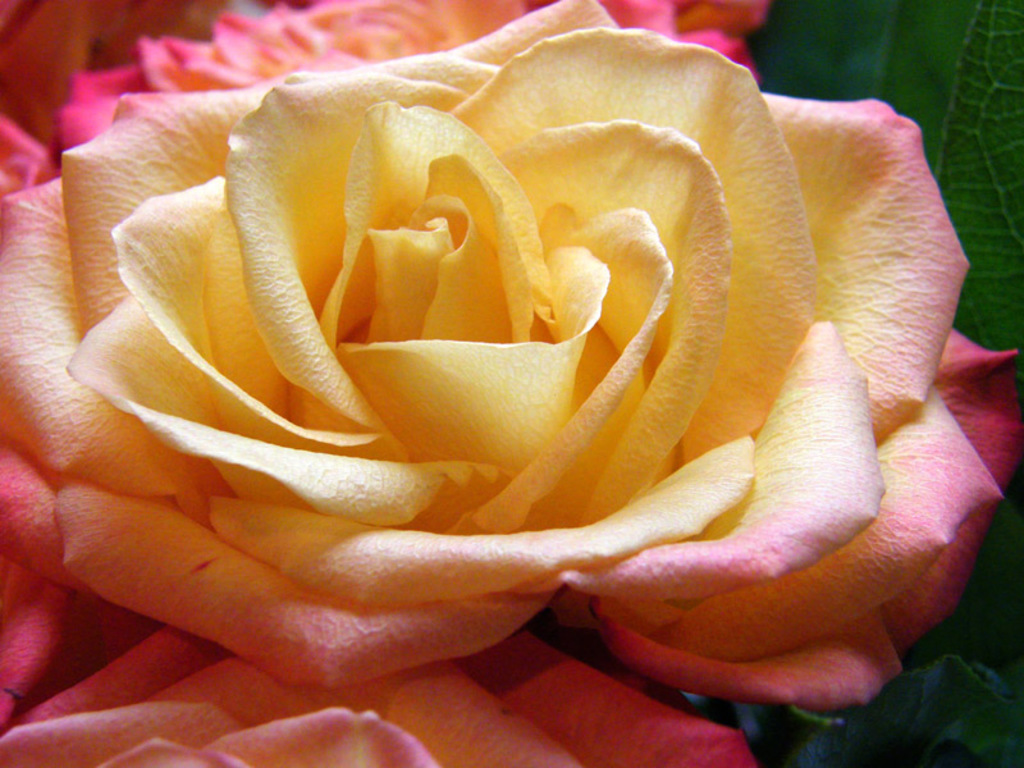person: (580, 0, 782, 80)
